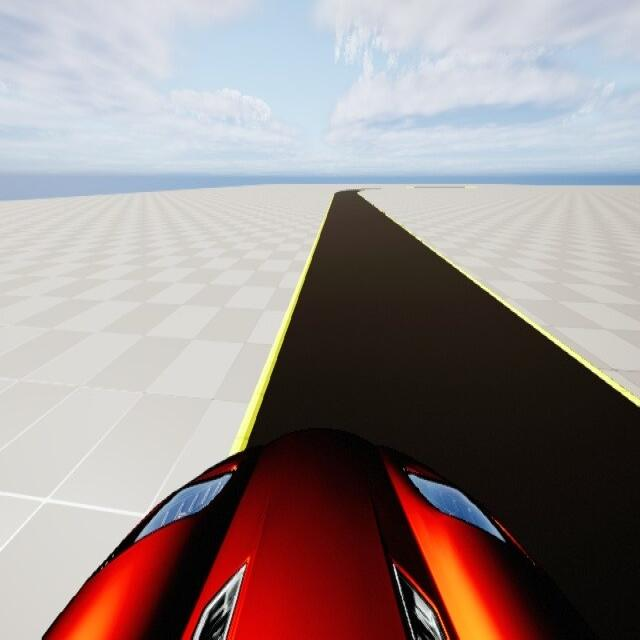lane: (234, 191, 639, 639)
